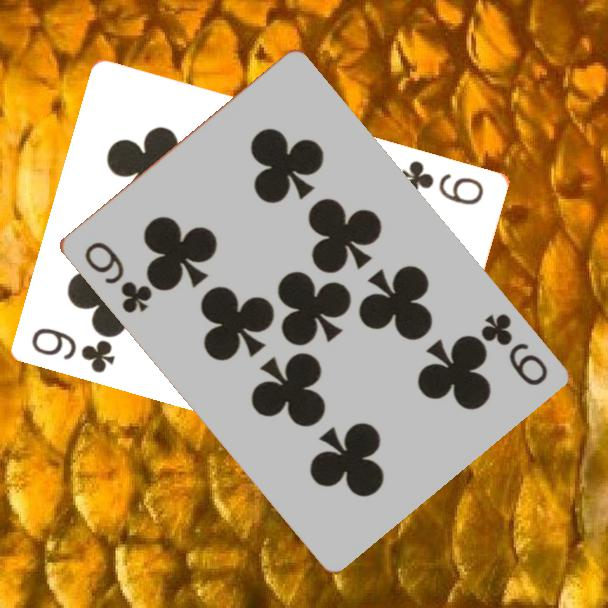c09: (476, 309, 550, 389), (80, 238, 155, 316), (28, 324, 119, 376), (397, 156, 487, 208)
